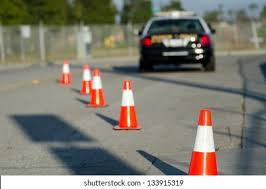car: (138, 18, 216, 74)
cone: (189, 109, 218, 175), (117, 81, 136, 130), (90, 69, 105, 107), (81, 65, 92, 95), (60, 61, 73, 84)
